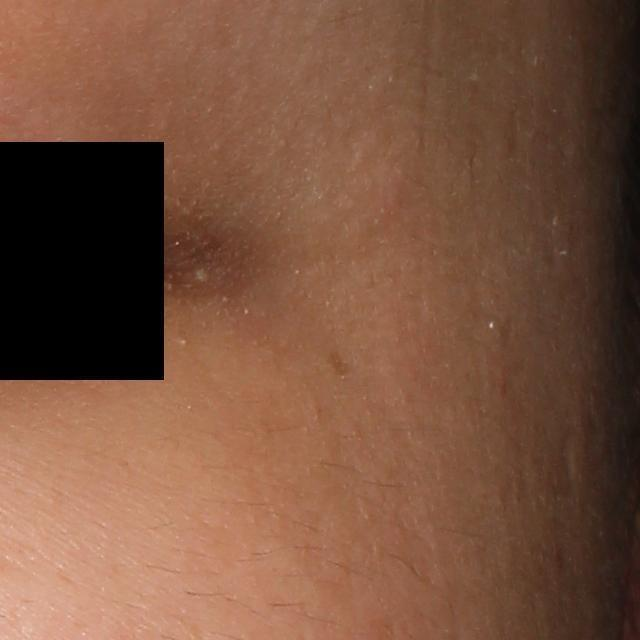melasma: (325, 348, 356, 378)
